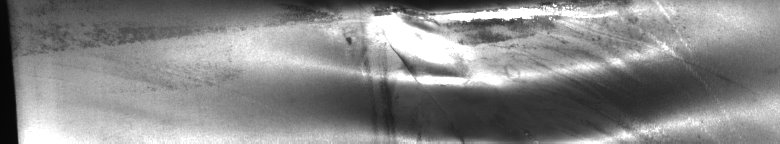ke: (273, 4, 699, 136)
